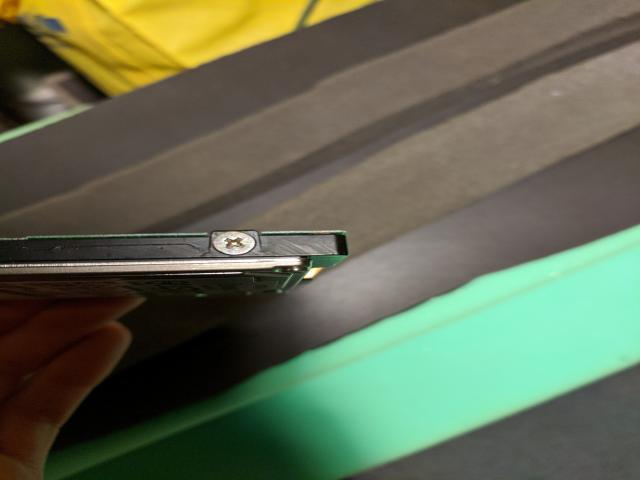CRS: (214, 230, 256, 256)
